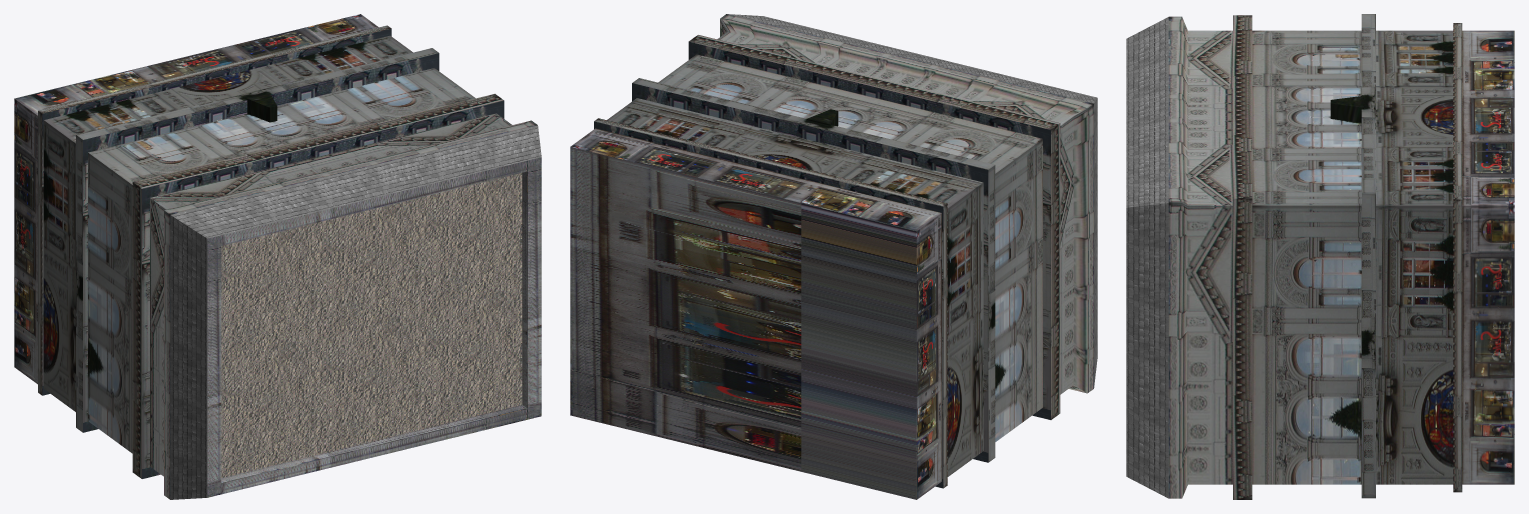
Rendered from residential_building_02.obj.
The picture shows the model from 3 angles, left to right: view 1: azimuth 30°, elevation 25°; view 2: azimuth 150°, elevation 25°; view 3: azimuth 270°, elevation 25°; orthographic projection. The views are drawn at different scales.
Parts seen in each view (by area): view 1: Shops_B_02; view 2: Shops_B_02; view 3: Shops_B_02.
Boxes of the visible parts, x1,y1,x2,y2 form: Shops_B_02: (14, 14, 541, 499); Shops_B_02: (570, 14, 1097, 499); Shops_B_02: (1126, 14, 1514, 499).
Size of the model in its own units: 45.84 by 35.05 by 40.4.
Materials: 4 (4 with a texture image).
